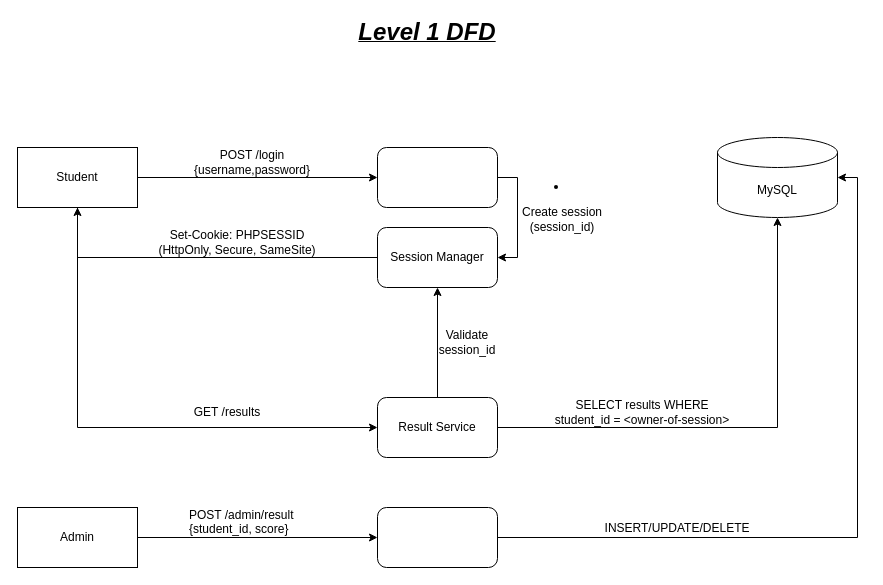
This 883x585 diagram has some shape labels left out. Each missing label, with the centre of its shape:
"Admin Service" goes at (437,537).
"Auth Service" goes at (437,177).
